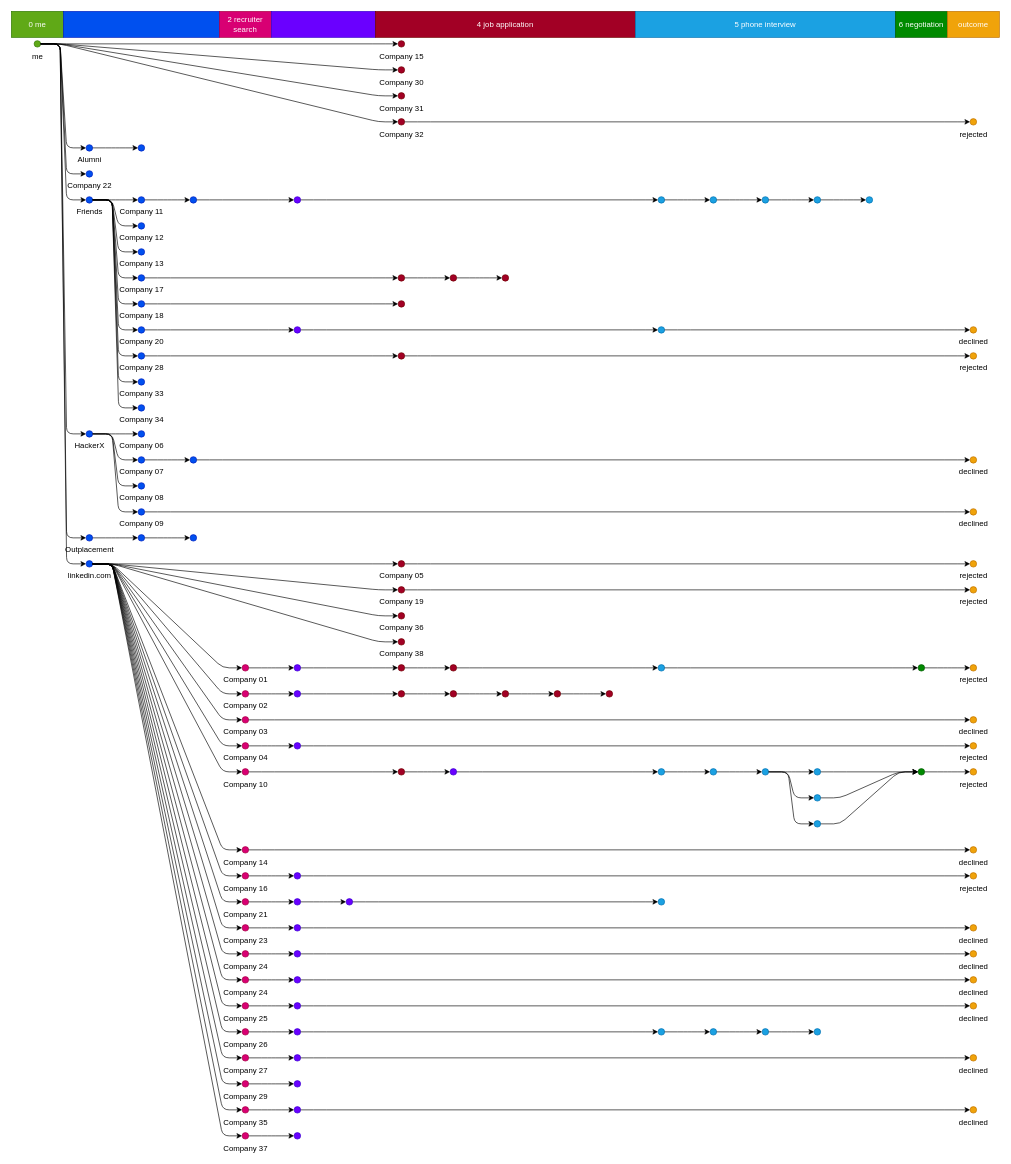
The diagram is 1011 pixels wide and 1164 high, and some of its shapes have lost their labels. The box of each missing label's shape, as (x1, y1, x2, y2) in pixels:
1 networks: (63, 11, 219, 37)
3 recruiter screening: (271, 11, 375, 37)
